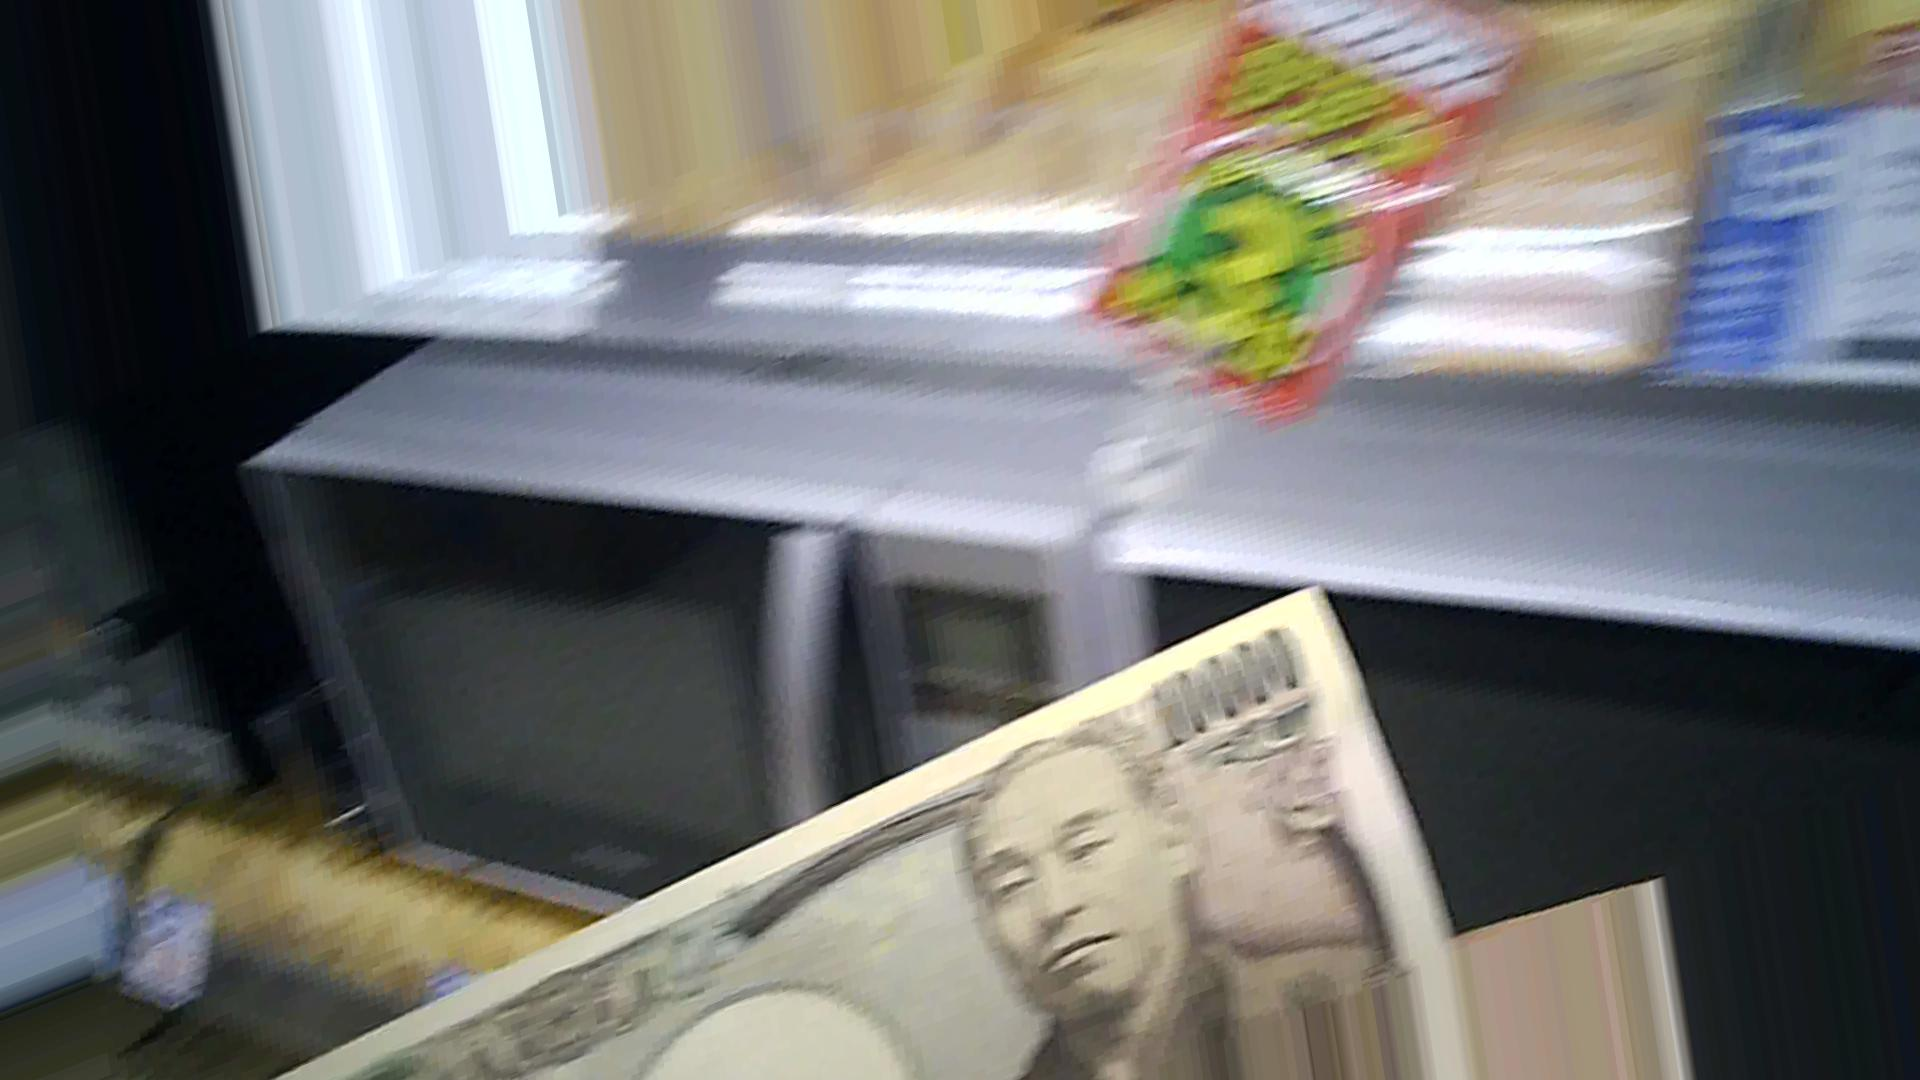10,000 Yen: (382, 591, 1458, 1042)
